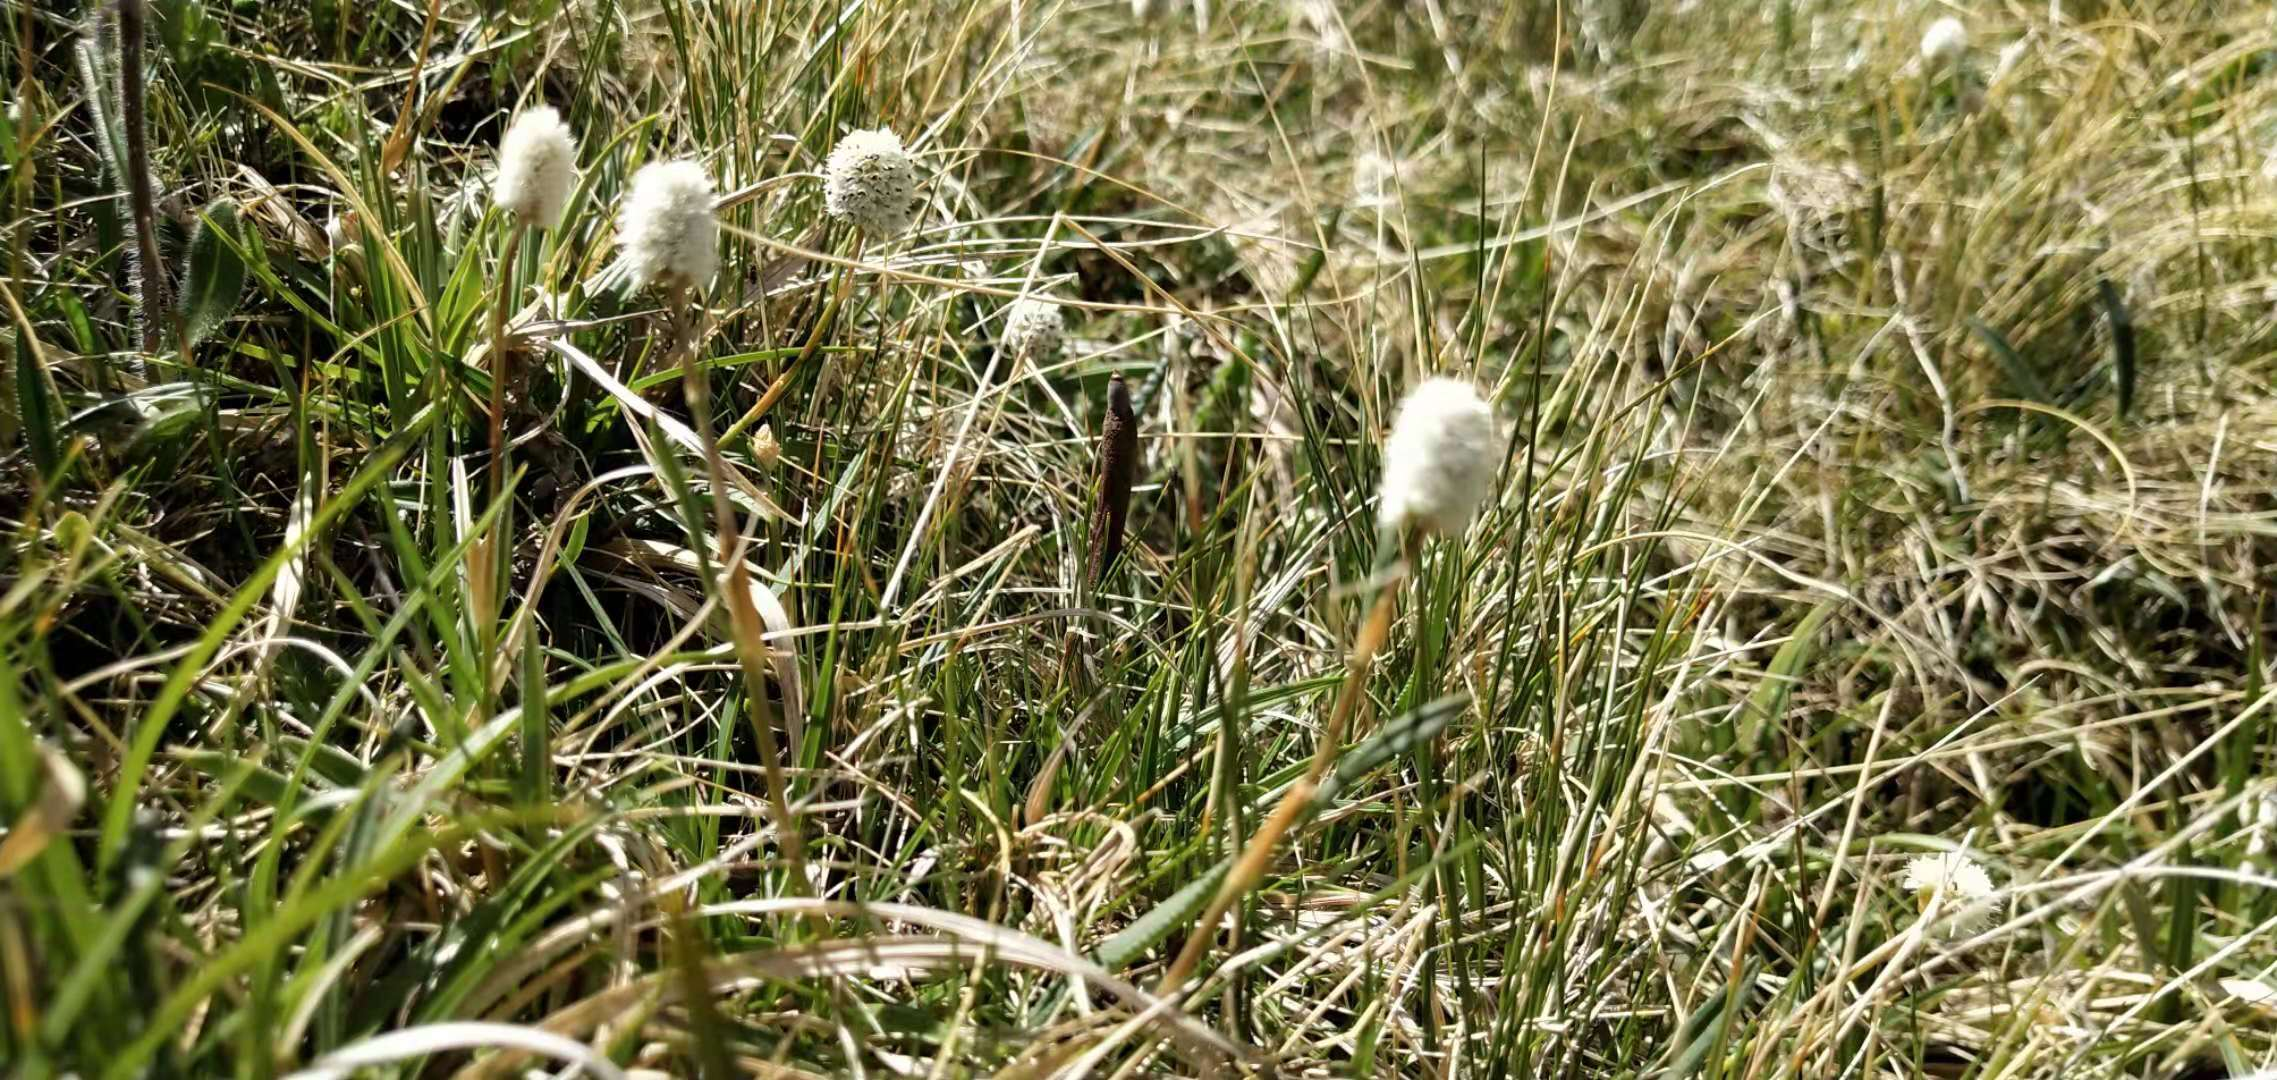w: (1088, 373, 1138, 589)
